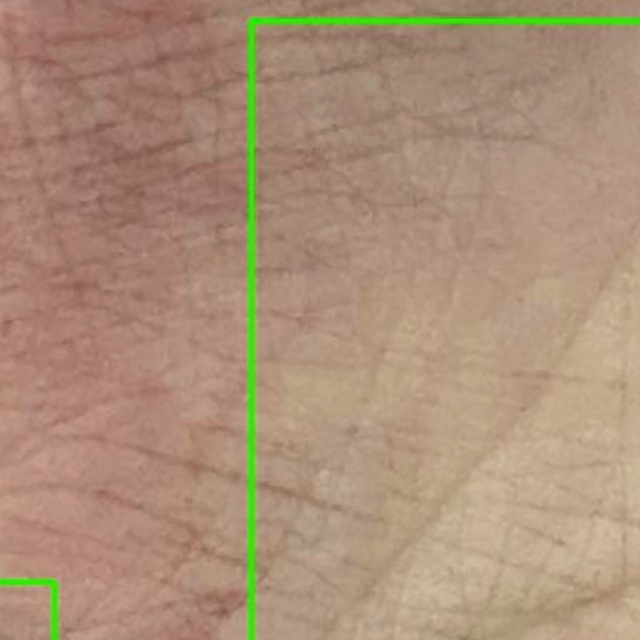Contact Dermatitis: (251, 21, 639, 639)
